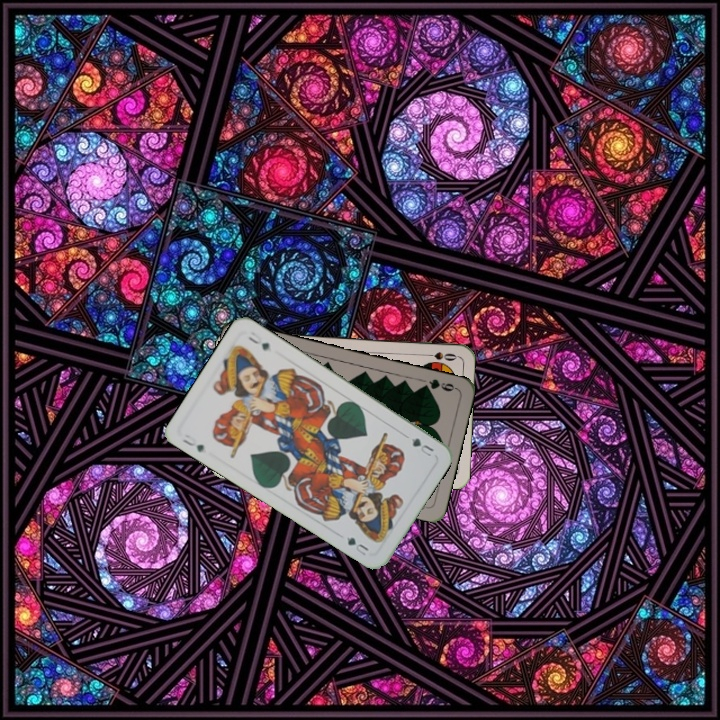G9: (417, 375, 459, 394)
GU: (407, 434, 436, 459), (178, 433, 207, 455)
SO: (419, 348, 459, 363)
